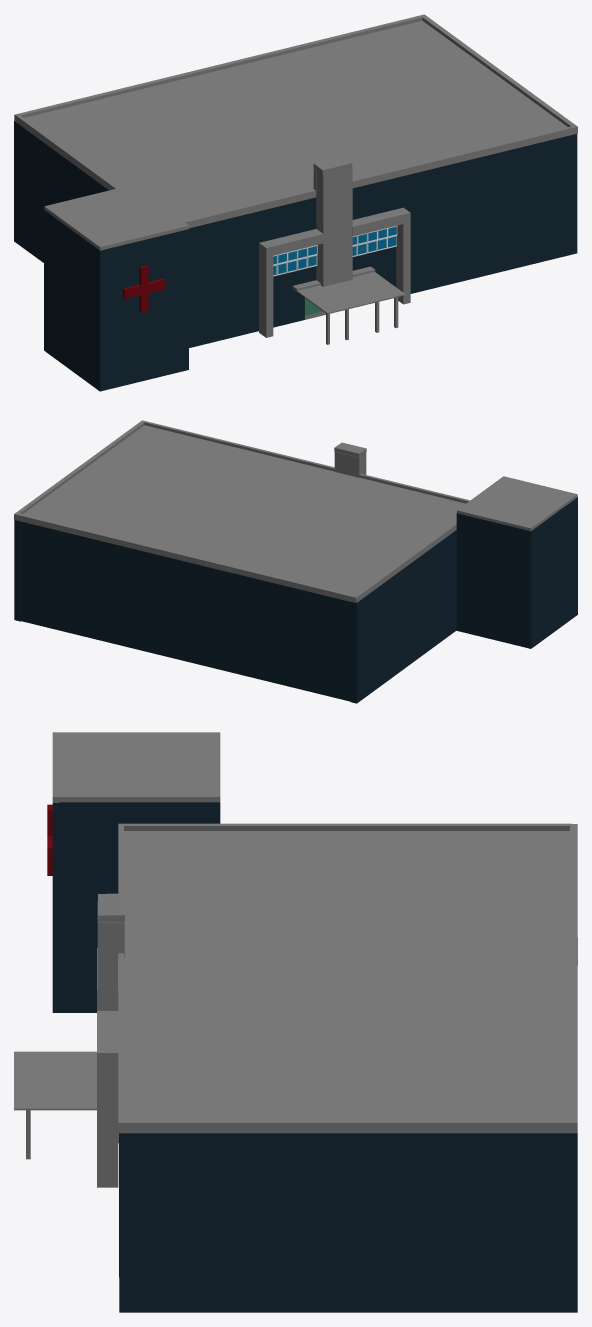
Rendered from HospitalCompleto.fbx.
The picture shows the model from 3 angles, top to bottom: view 1: azimuth 30°, elevation 25°; view 2: azimuth 150°, elevation 25°; view 3: azimuth 270°, elevation 25°; orthographic projection. The views are drawn at different scales.
Visible parts, largest first — view 1: Cube.027, Cube.014, Cube.020, Cube.016, Cube.019, Cube.038, Cube.021, Cube.004, Cube.023; view 2: Cube.027, Cube.039, Cube.038, Cube.018, Cube.019, Cube.021, Cube.016, Cube.025; view 3: Cube.027, Cube.025, Cube.015, Cube.021, Cube.016, Cube.004, Cube.014, Cube.020.
Boxes of the visible parts, x1,y1,x2,y2 form: Cube.027: (14, 14, 577, 228); Cube.014: (189, 134, 577, 347); Cube.020: (98, 229, 188, 391); Cube.016: (259, 156, 410, 337); Cube.019: (46, 211, 97, 389); Cube.038: (14, 121, 108, 262); Cube.021: (44, 184, 188, 250); Cube.004: (292, 266, 405, 344); Cube.023: (123, 265, 164, 312); Cube.027: (14, 420, 469, 602); Cube.039: (21, 521, 350, 701); Cube.038: (350, 530, 456, 703); Cube.018: (456, 513, 532, 648); Cube.019: (532, 498, 576, 647); Cube.021: (457, 476, 577, 531); Cube.016: (334, 442, 366, 477); Cube.025: (14, 520, 20, 621); Cube.027: (118, 823, 577, 1133); Cube.025: (131, 1133, 577, 1312); Cube.015: (59, 802, 213, 1012); Cube.021: (52, 732, 220, 802); Cube.016: (97, 893, 124, 1187); Cube.004: (14, 1051, 96, 1159); Cube.014: (119, 1133, 131, 1312); Cube.020: (52, 803, 58, 1012).
Bounding box in the file's own units: 19918 × 5857 × 13001.
